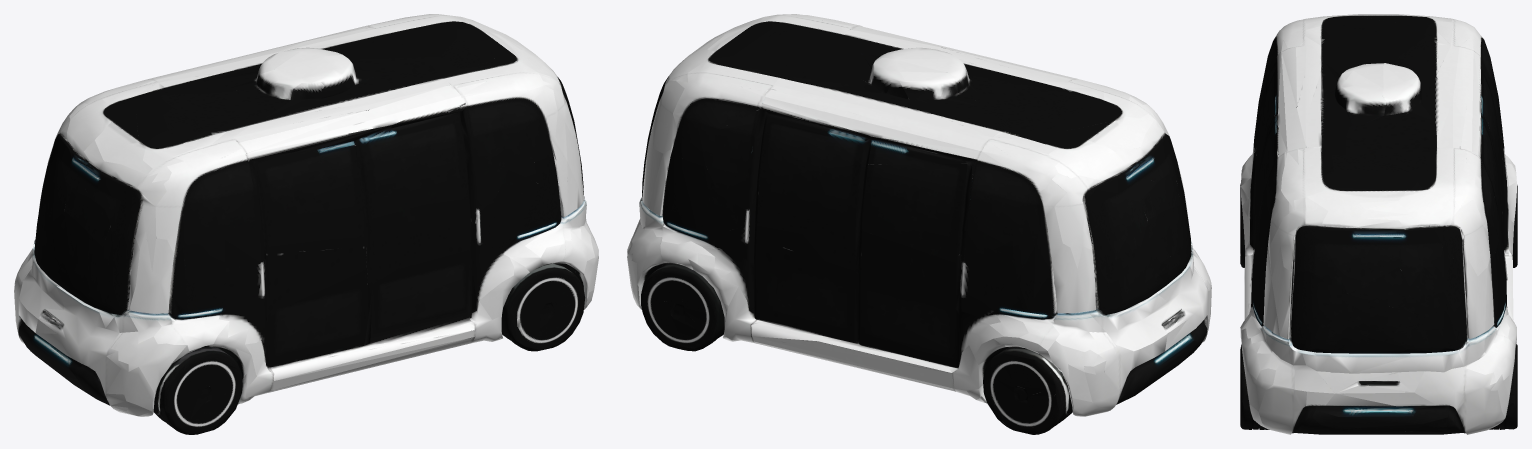
Rendered from DefaultModel.fbx.
3 renders of one model, left to right at view 1: azimuth 30°, elevation 25°; view 2: azimuth 150°, elevation 25°; view 3: azimuth 270°, elevation 25°, orthographic. The views are drawn at different scales.
Visible parts, largest first — view 1: Mesh_0; view 2: Mesh_0; view 3: Mesh_0.
Part boxes in pixels (left/top/right/bottom): Mesh_0: left=14, top=14, right=598, bottom=434; Mesh_0: left=627, top=14, right=1211, bottom=434; Mesh_0: left=1240, top=14, right=1517, bottom=434.
Size of the model in its own units: 190 by 98.63 by 93.2.
1 material, 1 textured.
